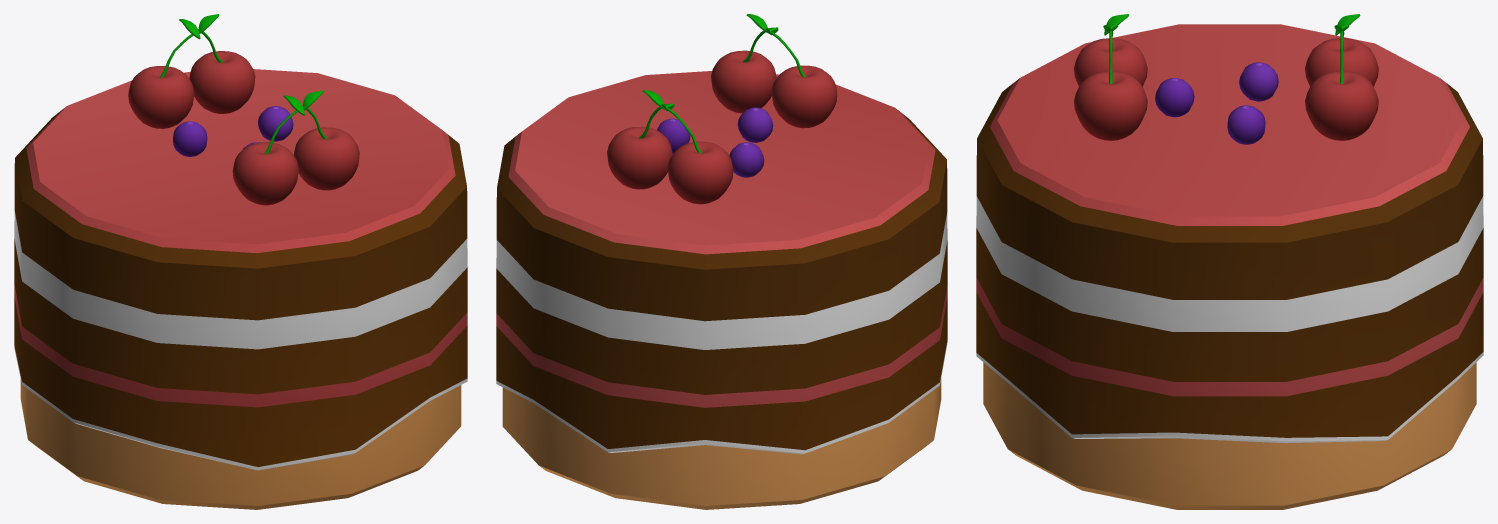
Rendered from Cake_3.fbx.
The picture shows the model from 3 angles, left to right: view 1: azimuth 30°, elevation 25°; view 2: azimuth 150°, elevation 25°; view 3: azimuth 270°, elevation 25°; orthographic projection. The views are drawn at different scales.
Parts seen in each view (by area): view 1: Cake_3; view 2: Cake_3; view 3: Cake_3.
Part boxes in pixels (x1,y1,x2,y2): Cake_3: [14, 14, 467, 509]; Cake_3: [496, 14, 947, 509]; Cake_3: [976, 14, 1483, 509].
Size of the model in its own units: 0.2645 by 0.2362 by 0.2713.
